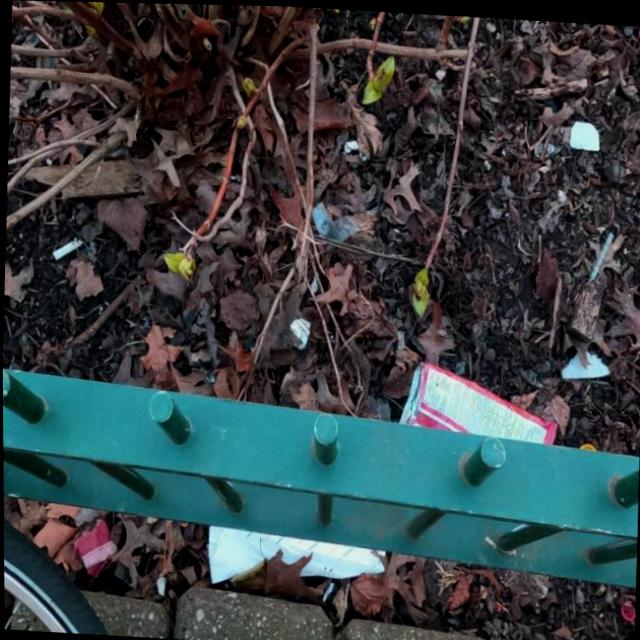Plastic: (394, 350, 562, 444)
